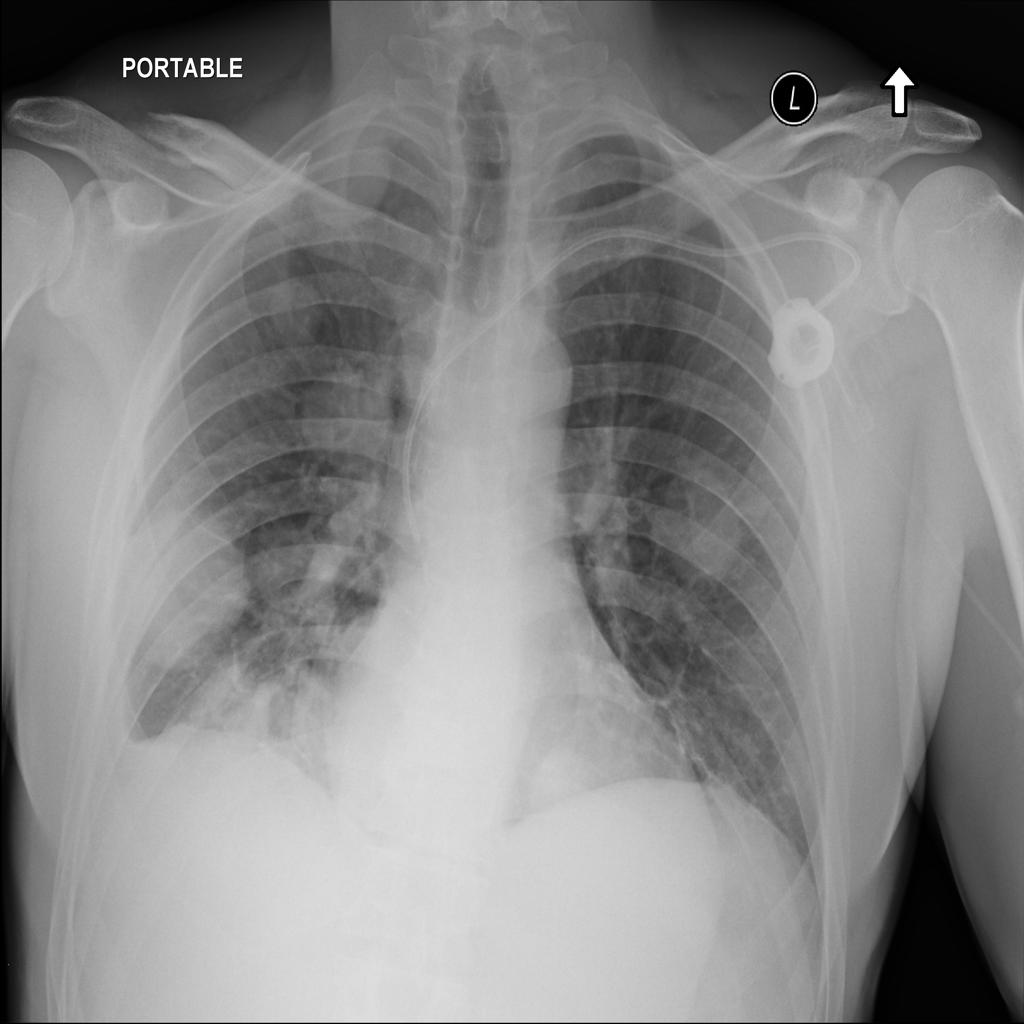nodule: (110, 490, 260, 682), (641, 439, 769, 606), (295, 112, 407, 240), (296, 352, 409, 478), (523, 734, 605, 816), (263, 269, 331, 355)
